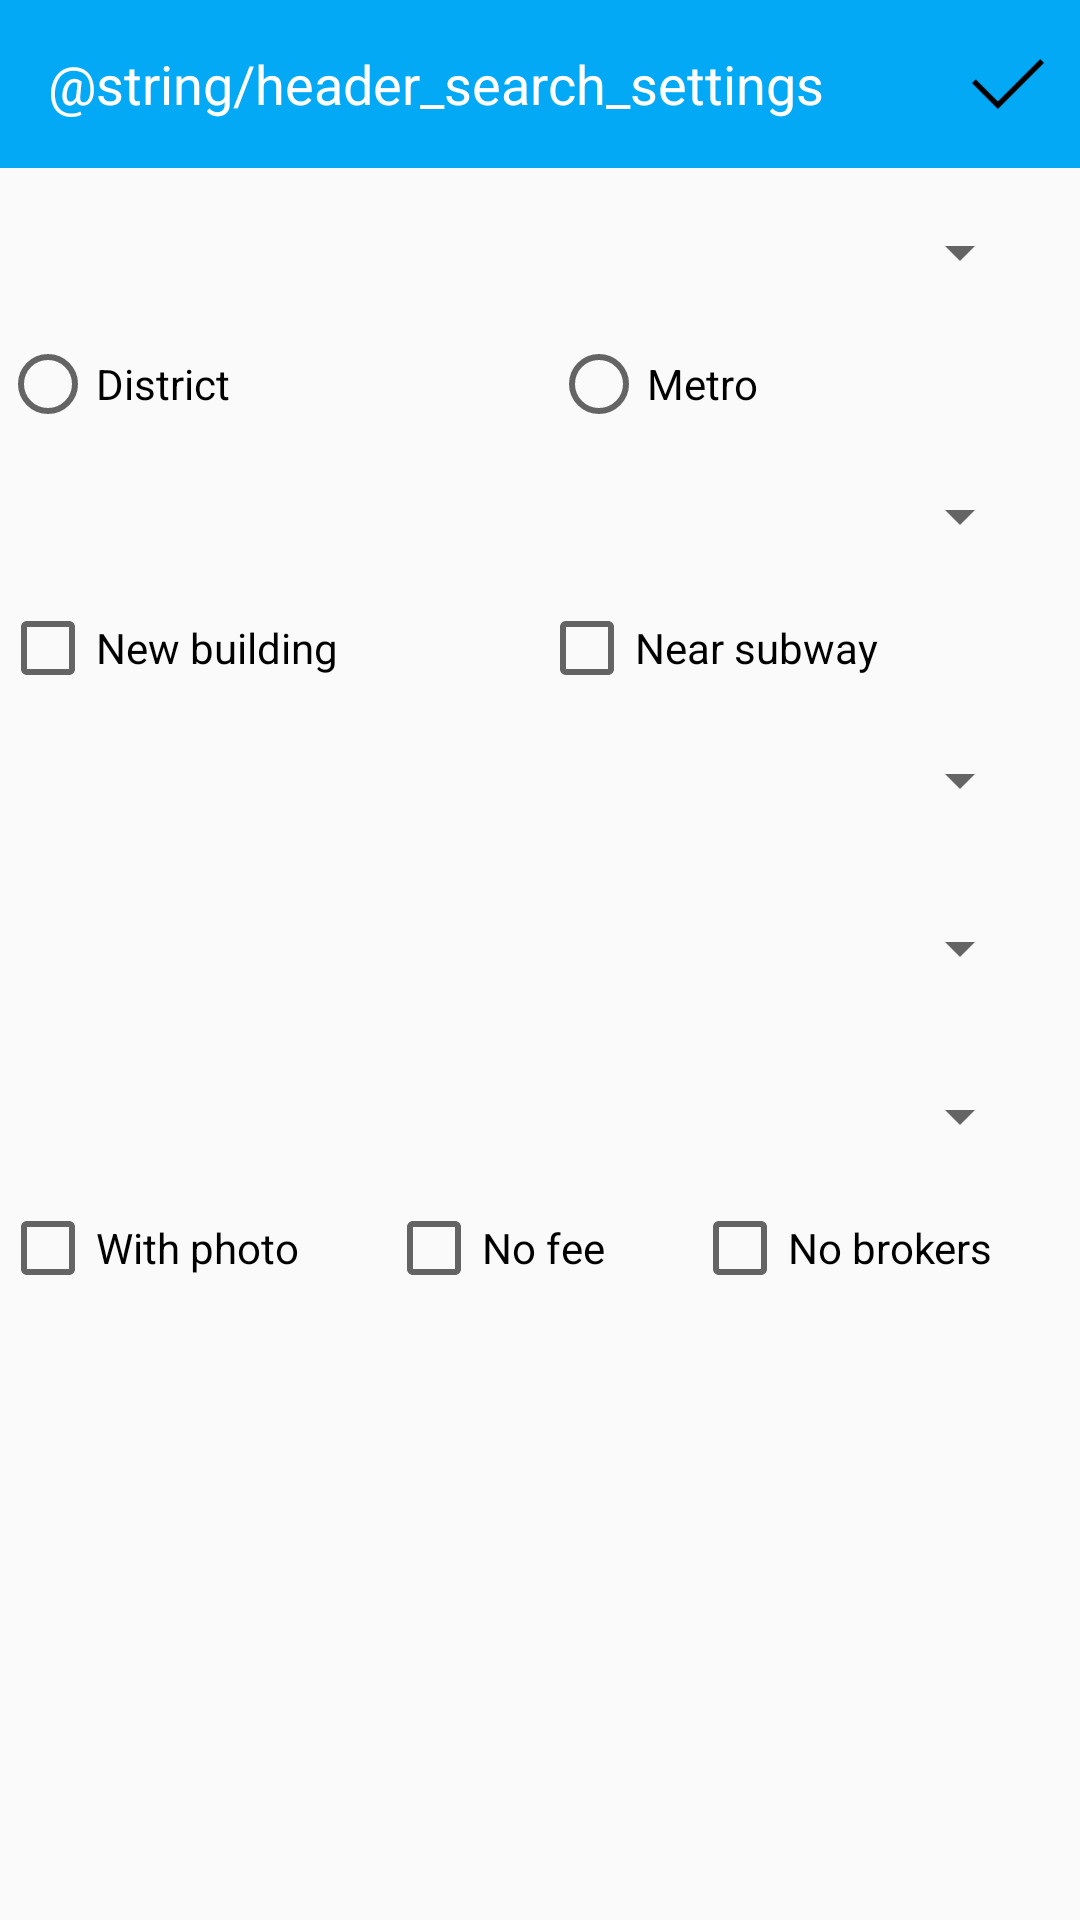

Locate icon controls on the screen. Image size 1080*1920, boxes as [x1, y1, x2, y2].
checked: [972, 59, 1044, 109]
